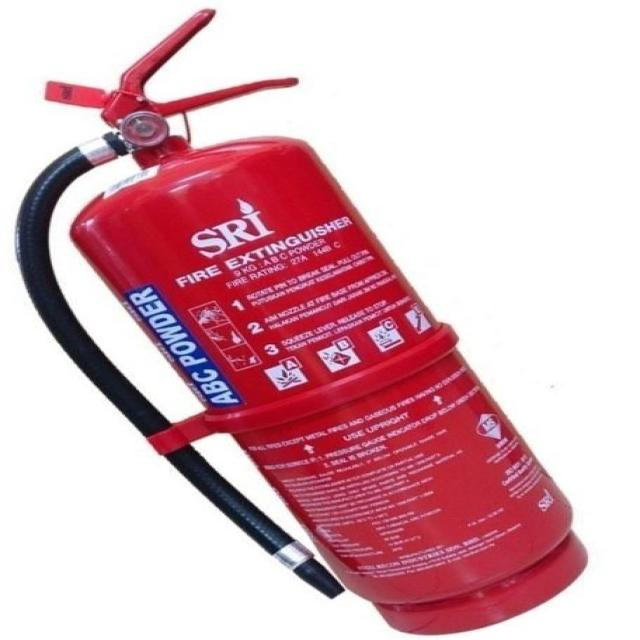fire_extinguisher: (8, 11, 586, 635)
